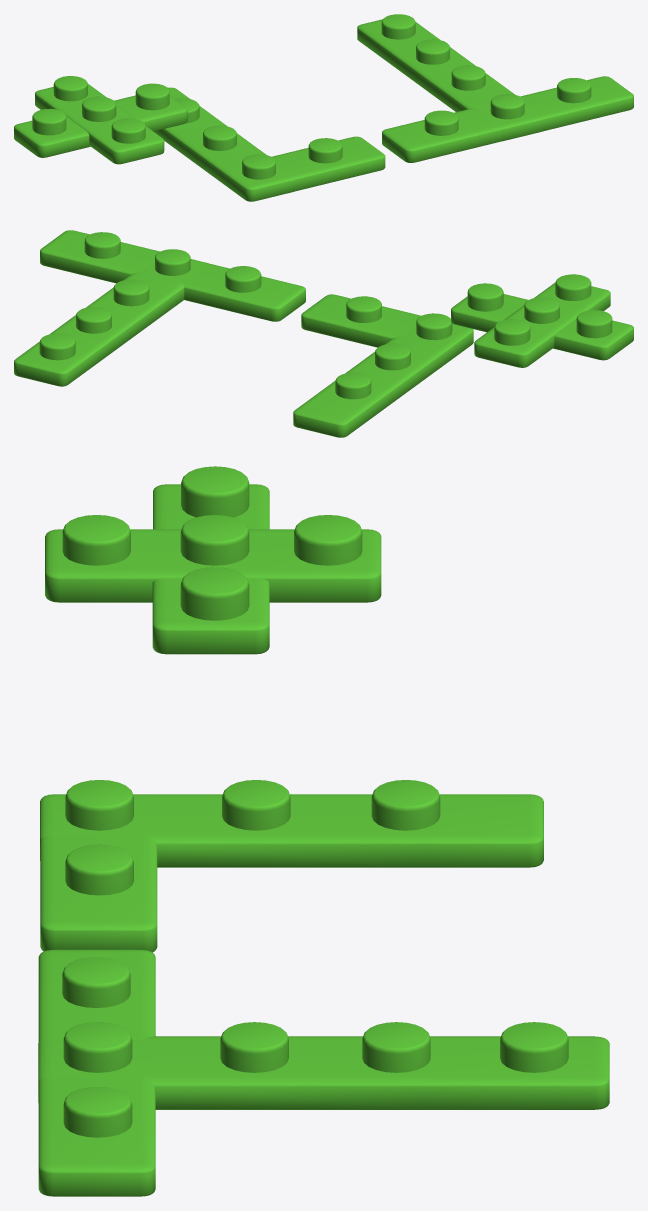
File: Plus_T_L_block.fbx
3 views of the same model, one above another, from view 1: azimuth 30°, elevation 25°; view 2: azimuth 150°, elevation 25°; view 3: azimuth 270°, elevation 25° (orthographic). The views are drawn at different scales.
Parts seen in each view (by area): view 1: T Block, L Block, Plus Block; view 2: T Block, L Block, Plus Block; view 3: T Block, L Block, Plus Block.
Part boxes in pixels (box(x1,y1,x2,y2)): T Block: box(357, 14, 633, 162); L Block: box(153, 87, 385, 201); Plus Block: box(14, 76, 187, 164); T Block: box(14, 230, 305, 386); L Block: box(293, 294, 473, 437); Plus Block: box(451, 274, 633, 367); T Block: box(38, 949, 609, 1196); L Block: box(40, 780, 543, 952); Plus Block: box(45, 466, 381, 654).
Size of the model in its own units: 624 by 98.95 by 272.
